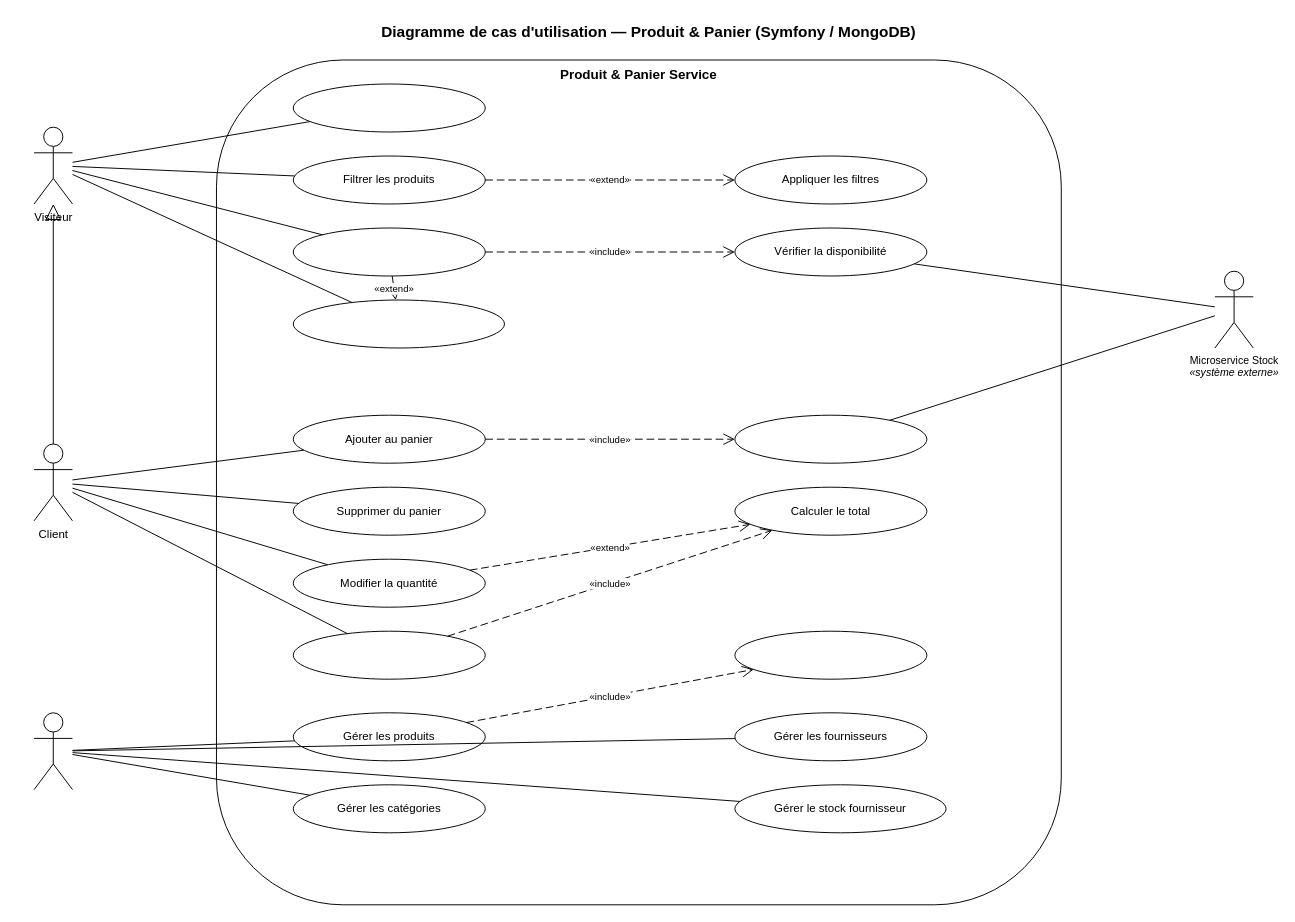
Some shapes in this 1295 by 922 pixel diagram are drawn without their labels. The centre of each missing label's shape, as x and y in pixels:
Administrateur: the point at 52,751
Consulter le panier: the point at 388,654
Consulter les détails: the point at 388,251
Consulter les produits: the point at 388,107
Consulter les spécifications: the point at 398,323
Valider les données: the point at 830,654
Vérifier le stock: the point at 830,438
